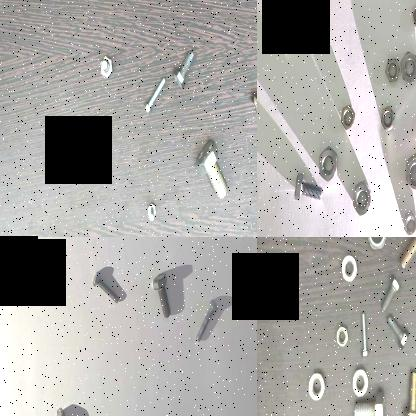Bolts: (194, 134, 232, 208), (43, 127, 79, 178), (149, 268, 177, 321), (194, 297, 222, 344), (140, 73, 167, 120), (290, 172, 326, 204), (387, 311, 411, 354), (173, 48, 195, 90), (400, 363, 416, 416), (380, 276, 402, 312), (401, 237, 416, 274), (360, 308, 370, 360), (100, 52, 116, 84), (144, 198, 160, 222), (38, 404, 70, 416)
NUTS: (317, 140, 339, 184), (352, 178, 374, 221), (306, 370, 328, 404), (338, 250, 359, 284), (350, 367, 373, 397), (340, 100, 358, 132), (379, 102, 396, 134), (384, 56, 400, 86), (402, 52, 416, 85), (336, 322, 352, 350), (402, 207, 416, 237), (406, 153, 416, 191), (366, 237, 391, 252)
